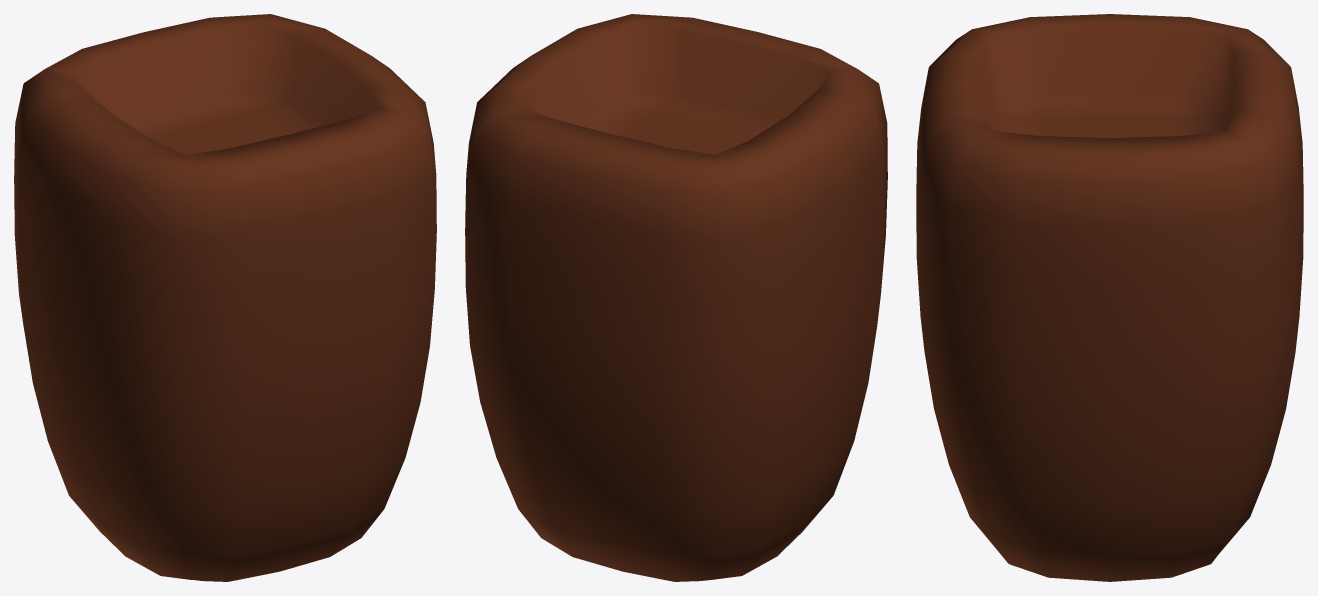
The model's file is macetero_2.fbx.
3 views of the same model, side by side, from view 1: azimuth 30°, elevation 25°; view 2: azimuth 150°, elevation 25°; view 3: azimuth 270°, elevation 25° (orthographic).
Visible parts, largest first — view 1: Cubo; view 2: Cubo; view 3: Cubo.
Part boxes in pixels (left/top/right/bottom): Cubo: left=14, top=14, right=436, bottom=581; Cubo: left=465, top=14, right=887, bottom=581; Cubo: left=916, top=14, right=1303, bottom=581.
Bounding box in the file's own units: 23.12 × 30 × 22.5.
